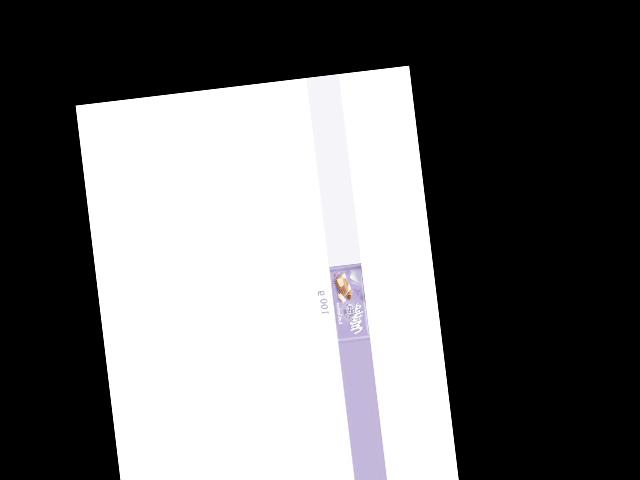chocolate: (327, 262, 370, 343)
